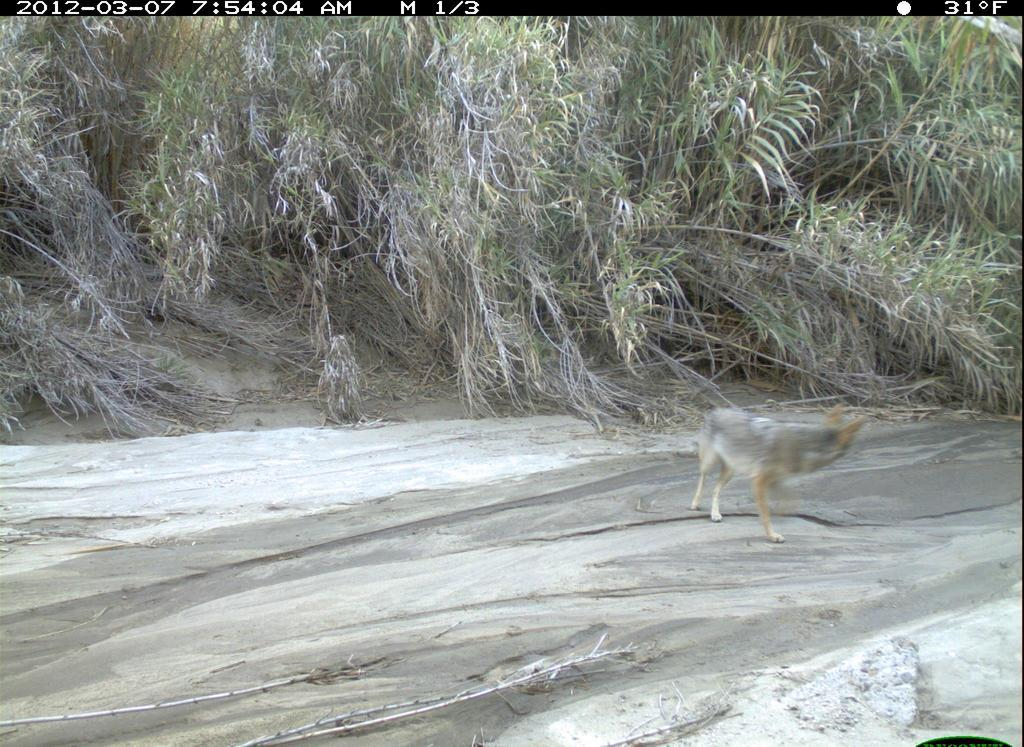coyote: (652, 370, 876, 546)
